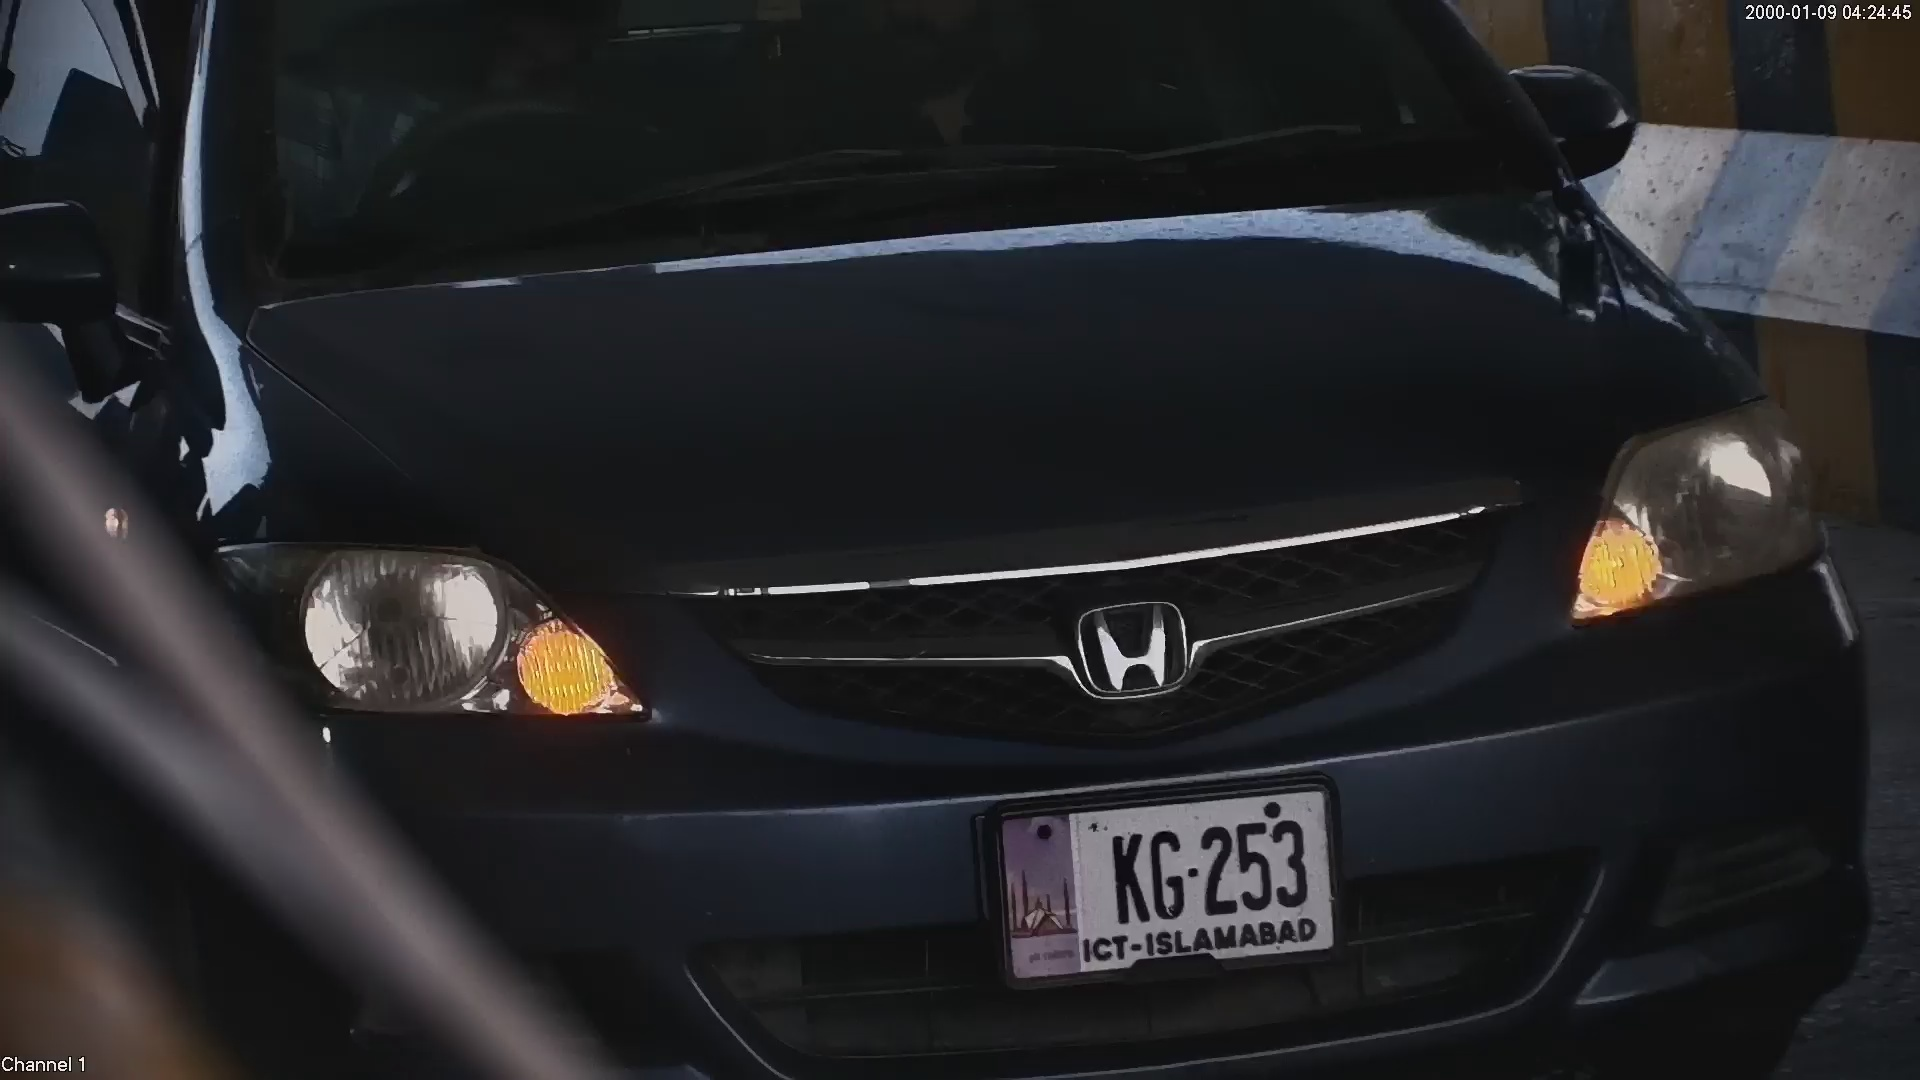Number_Plate: (978, 781, 1360, 986)
Undefined: (254, 546, 623, 723), (1584, 416, 1817, 614), (1063, 594, 1195, 696)
